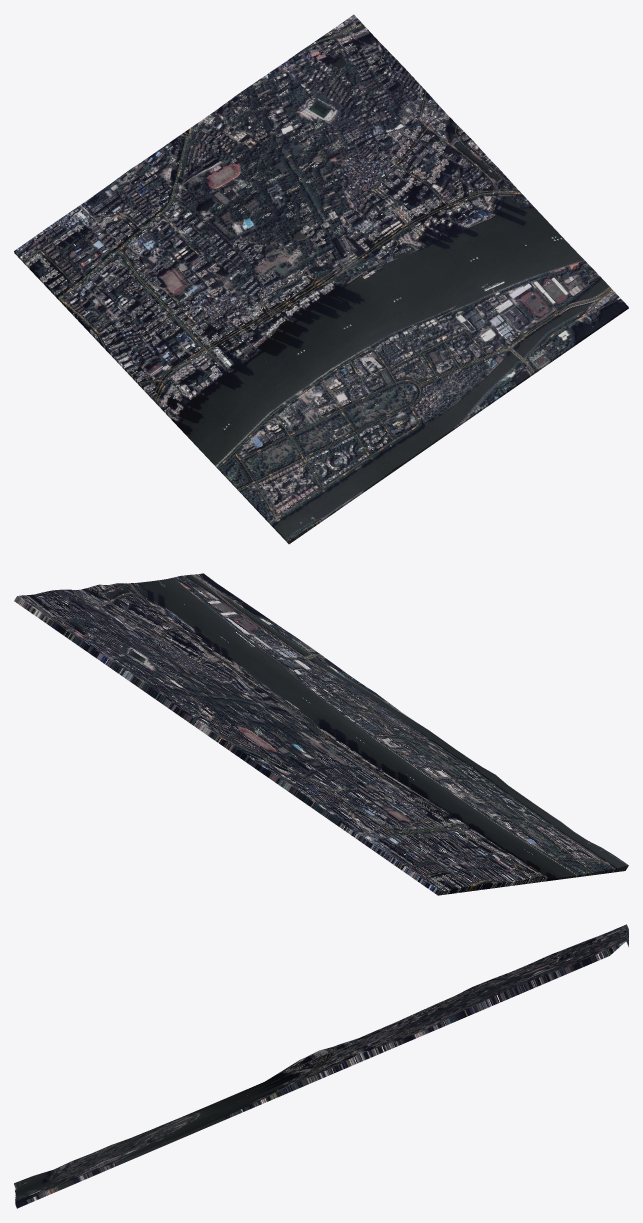
The picture shows the model from 3 angles, top to bottom: view 1: azimuth 30°, elevation 25°; view 2: azimuth 150°, elevation 25°; view 3: azimuth 270°, elevation 25°; orthographic projection. The views are drawn at different scales.
Visible parts, largest first — view 1: 2_3_4; view 2: 2_3_4; view 3: 2_3_4.
Part boxes in pixels (<box>): 2_3_4: <box>14,14,628,544</box>; 2_3_4: <box>14,573,628,895</box>; 2_3_4: <box>14,924,628,1208</box>.
Bounding box in the file's own units: 2453 × 1789 × 2249.
1 material, 1 textured.
